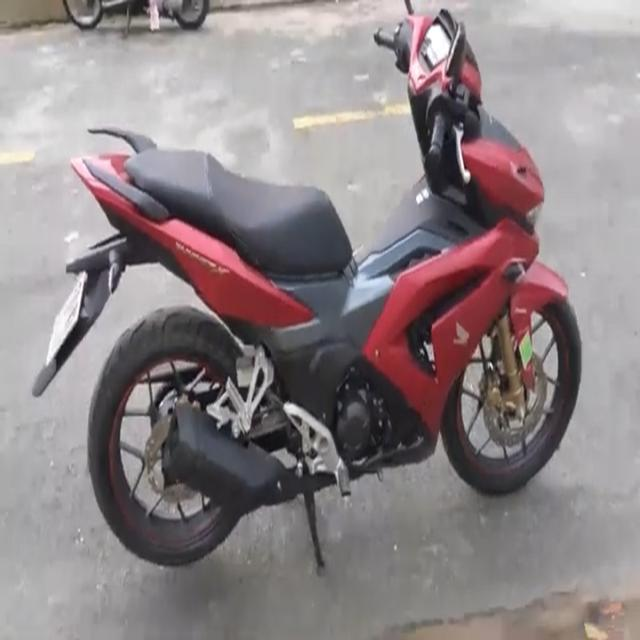motorcycle: (30, 0, 594, 561)
